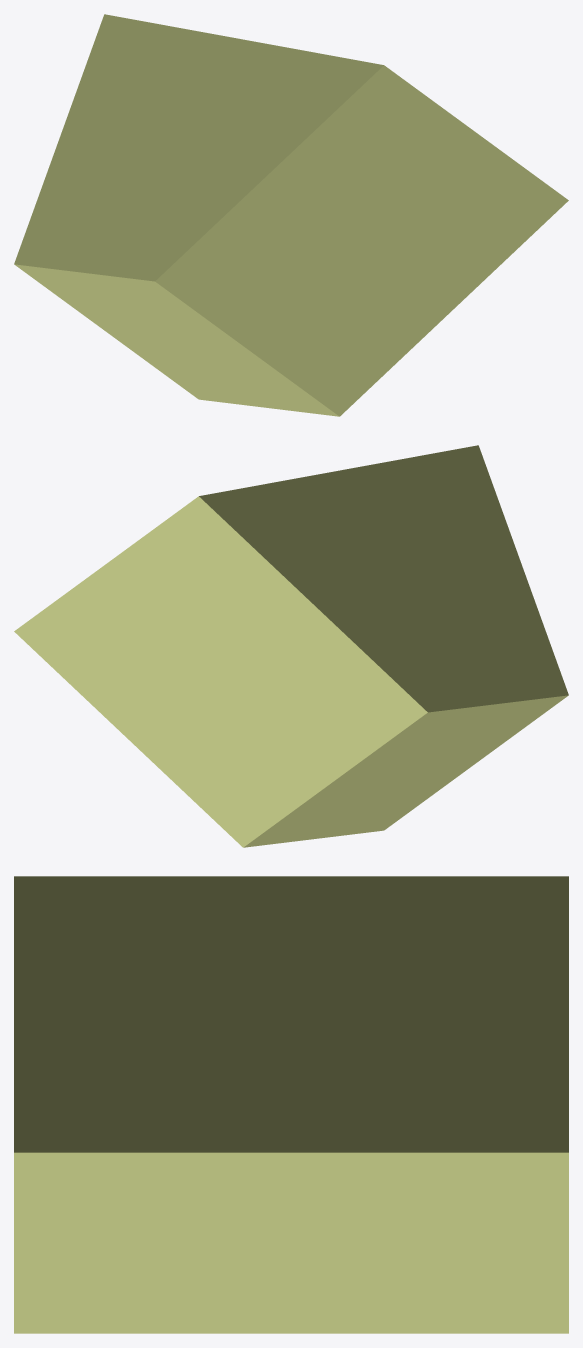
3 views of the same model, one above another, from view 1: azimuth 30°, elevation 25°; view 2: azimuth 150°, elevation 25°; view 3: azimuth 270°, elevation 25° (orthographic). The views are drawn at different scales.
Parts seen in each view (by area): view 1: 0_0_1_3_1_1_2_3_0_1; view 2: 0_0_1_3_1_1_2_3_0_1; view 3: 0_0_1_3_1_1_2_3_0_1.
Part boxes in pixels (<box>): 0_0_1_3_1_1_2_3_0_1: <box>14,14,568,416</box>; 0_0_1_3_1_1_2_3_0_1: <box>14,445,568,847</box>; 0_0_1_3_1_1_2_3_0_1: <box>14,876,568,1333</box>.
Size of the model in its own units: 10.41 by 7.52 by 9.
